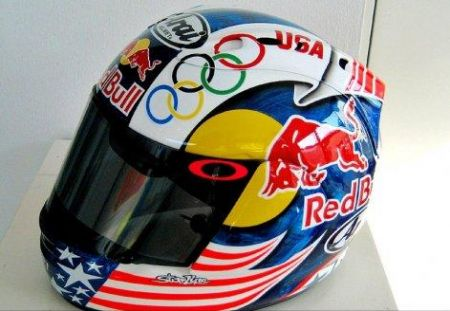helmet: (50, 2, 388, 296)
